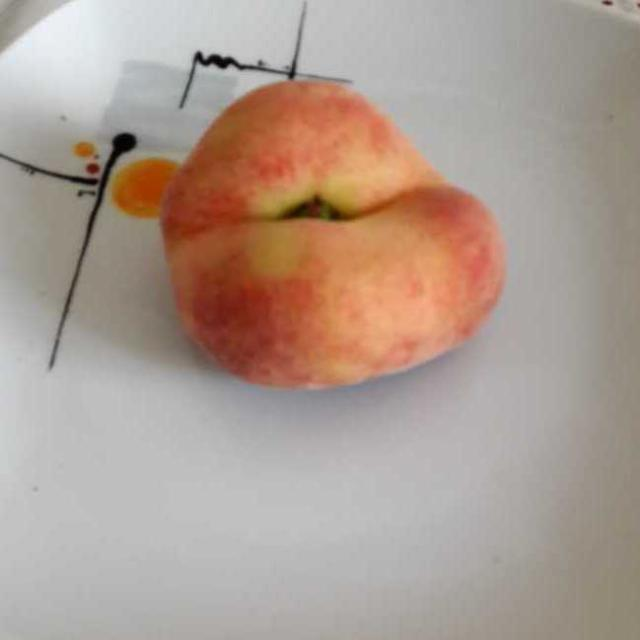peach: (163, 81, 493, 380)
